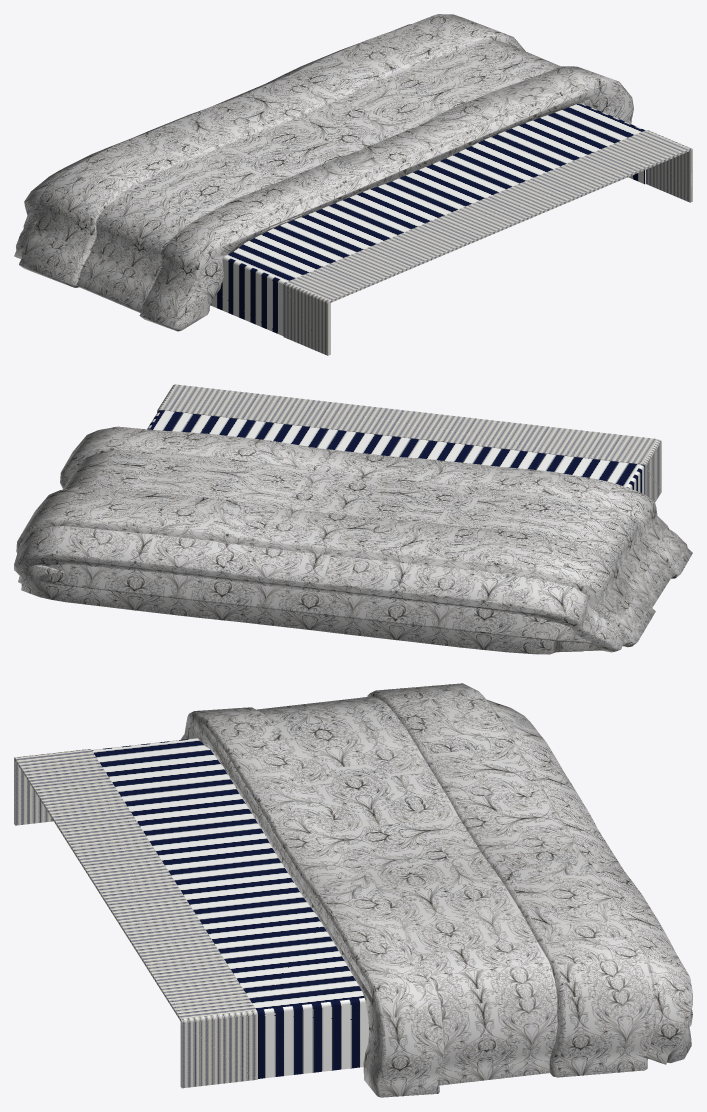
The model's file is Proj_Headboard_asoWayfair.obj.
3 views of the same model, one above another, from view 1: azimuth 30°, elevation 25°; view 2: azimuth 150°, elevation 25°; view 3: azimuth 270°, elevation 25° (orthographic). The views are drawn at different scales.
Parts seen in each view (by area): view 1: Mesh4 Interior_Fabric_Bedding_Comforter02_1 Interior_Fabric_Bedd, Mesh3 Interior_Fabric_Bedding_Comforter02_1 Interior_Fabric_Bedd, Mesh2 Interior_Fabric_Bedding_Blanket_lite01_1 Interior_Fabric_B, Mesh1 Interior_Fabric_BeddingQueen_TopSheetTurnDown01_1 Interior; view 2: Mesh3 Interior_Fabric_Bedding_Comforter02_1 Interior_Fabric_Bedd, Mesh4 Interior_Fabric_Bedding_Comforter02_1 Interior_Fabric_Bedd, Mesh1 Interior_Fabric_BeddingQueen_TopSheetTurnDown01_1 Interior, Mesh2 Interior_Fabric_Bedding_Blanket_lite01_1 Interior_Fabric_B; view 3: Mesh4 Interior_Fabric_Bedding_Comforter02_1 Interior_Fabric_Bedd, Mesh3 Interior_Fabric_Bedding_Comforter02_1 Interior_Fabric_Bedd, Mesh2 Interior_Fabric_Bedding_Blanket_lite01_1 Interior_Fabric_B, Mesh1 Interior_Fabric_BeddingQueen_TopSheetTurnDown01_1 Interior.
Part boxes in pixels (box(x1,y1,x2,y2)): Mesh4 Interior_Fabric_Bedding_Comforter02_1 Interior_Fabric_Bedd: box(76, 40, 633, 331); Mesh3 Interior_Fabric_Bedding_Comforter02_1 Interior_Fabric_Bedd: box(14, 14, 525, 287); Mesh2 Interior_Fabric_Bedding_Blanket_lite01_1 Interior_Fabric_B: box(210, 104, 645, 336); Mesh1 Interior_Fabric_BeddingQueen_TopSheetTurnDown01_1 Interior: box(283, 130, 692, 355); Mesh3 Interior_Fabric_Bedding_Comforter02_1 Interior_Fabric_Bedd: box(14, 486, 655, 654); Mesh4 Interior_Fabric_Bedding_Comforter02_1 Interior_Fabric_Bedd: box(60, 426, 692, 646); Mesh1 Interior_Fabric_BeddingQueen_TopSheetTurnDown01_1 Interior: box(157, 384, 661, 502); Mesh2 Interior_Fabric_Bedding_Blanket_lite01_1 Interior_Fabric_B: box(147, 410, 644, 494); Mesh4 Interior_Fabric_Bedding_Comforter02_1 Interior_Fabric_Bedd: box(180, 696, 647, 1097); Mesh3 Interior_Fabric_Bedding_Comforter02_1 Interior_Fabric_Bedd: box(367, 683, 692, 1077); Mesh2 Interior_Fabric_Bedding_Blanket_lite01_1 Interior_Fabric_B: box(92, 738, 369, 1078); Mesh1 Interior_Fabric_BeddingQueen_TopSheetTurnDown01_1 Interior: box(14, 749, 257, 1088).
Size of the model in its own units: 104 by 13.17 by 82.01.
3 materials, 3 textured.
